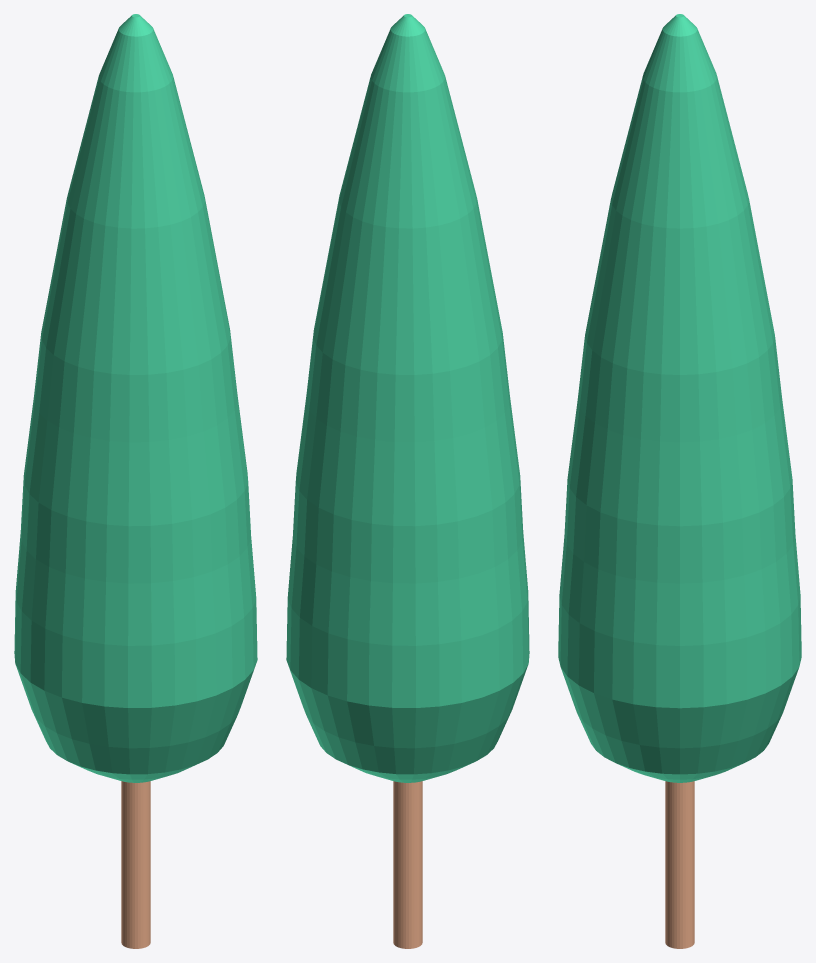
File: baum4.fbx
The picture shows the model from 3 angles, left to right: view 1: azimuth 30°, elevation 25°; view 2: azimuth 150°, elevation 25°; view 3: azimuth 270°, elevation 25°; orthographic projection.
Parts seen in each view (by area): view 1: Cylinder; view 2: Cylinder; view 3: Cylinder.
Part boxes in pixels (<box>): Cylinder: <box>14,14,257,948</box>; Cylinder: <box>286,14,529,948</box>; Cylinder: <box>558,14,801,948</box>.
Bounding box in the file's own units: 145 × 145 × 610.
